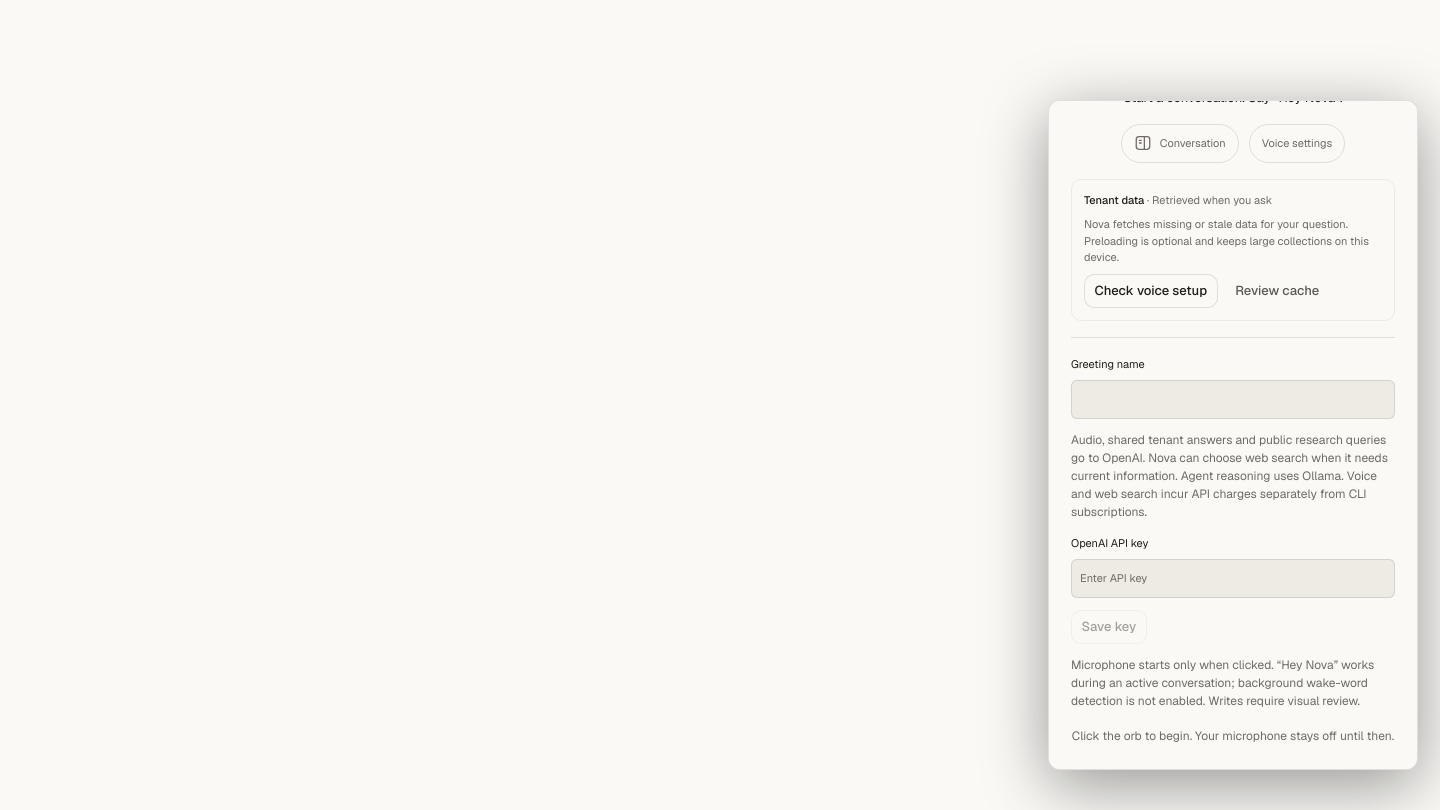
Test: does not let a delayed key-status result undo a successful key save
(page scrolled)
Type "test-only-key" into the password field labelled "OpenAI API key".
click(1233, 578); type("test-only-key")  # box top-left (1071, 558), bottom-right (1395, 598)
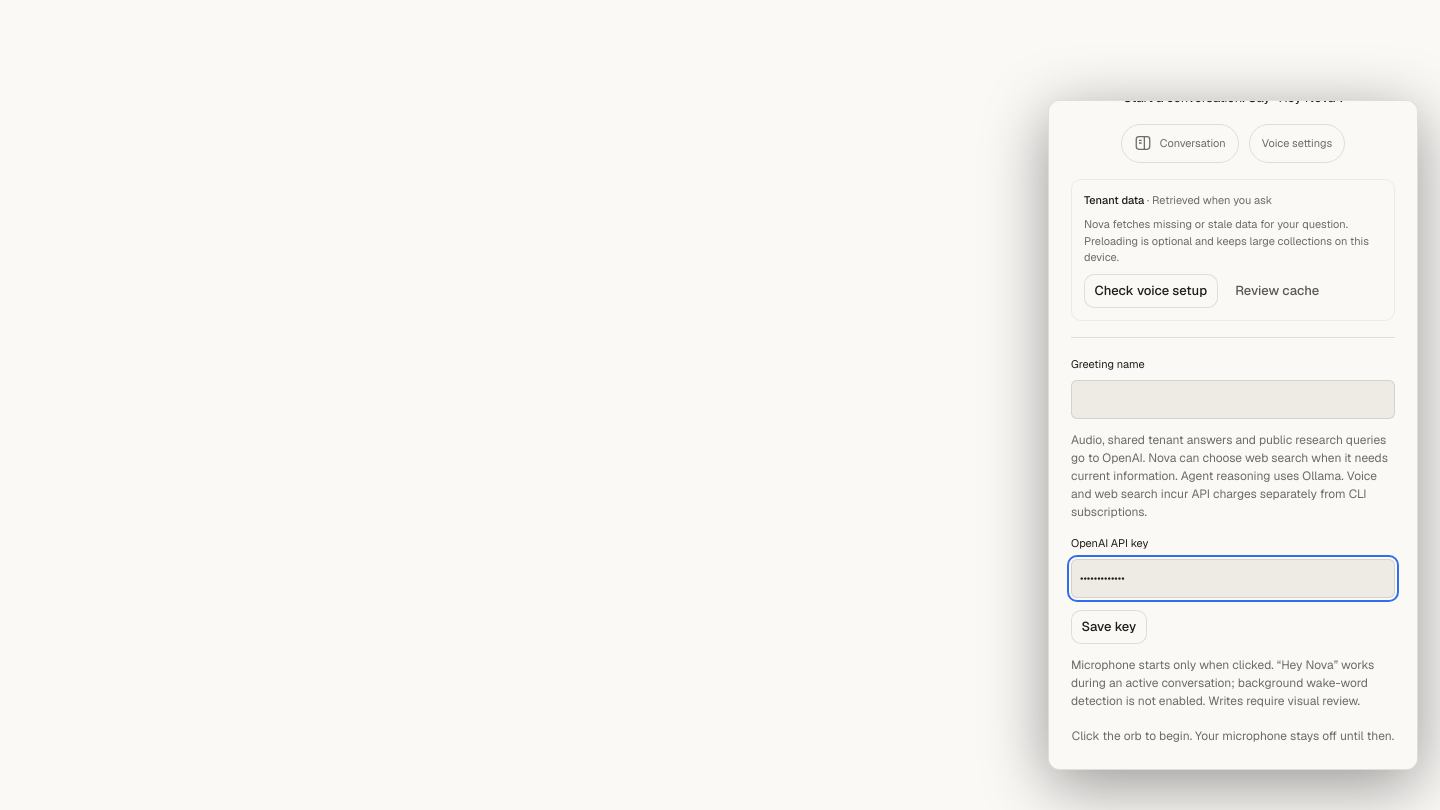
Click the button "Save key".
click(1109, 626)  # box top-left (1071, 610), bottom-right (1147, 644)
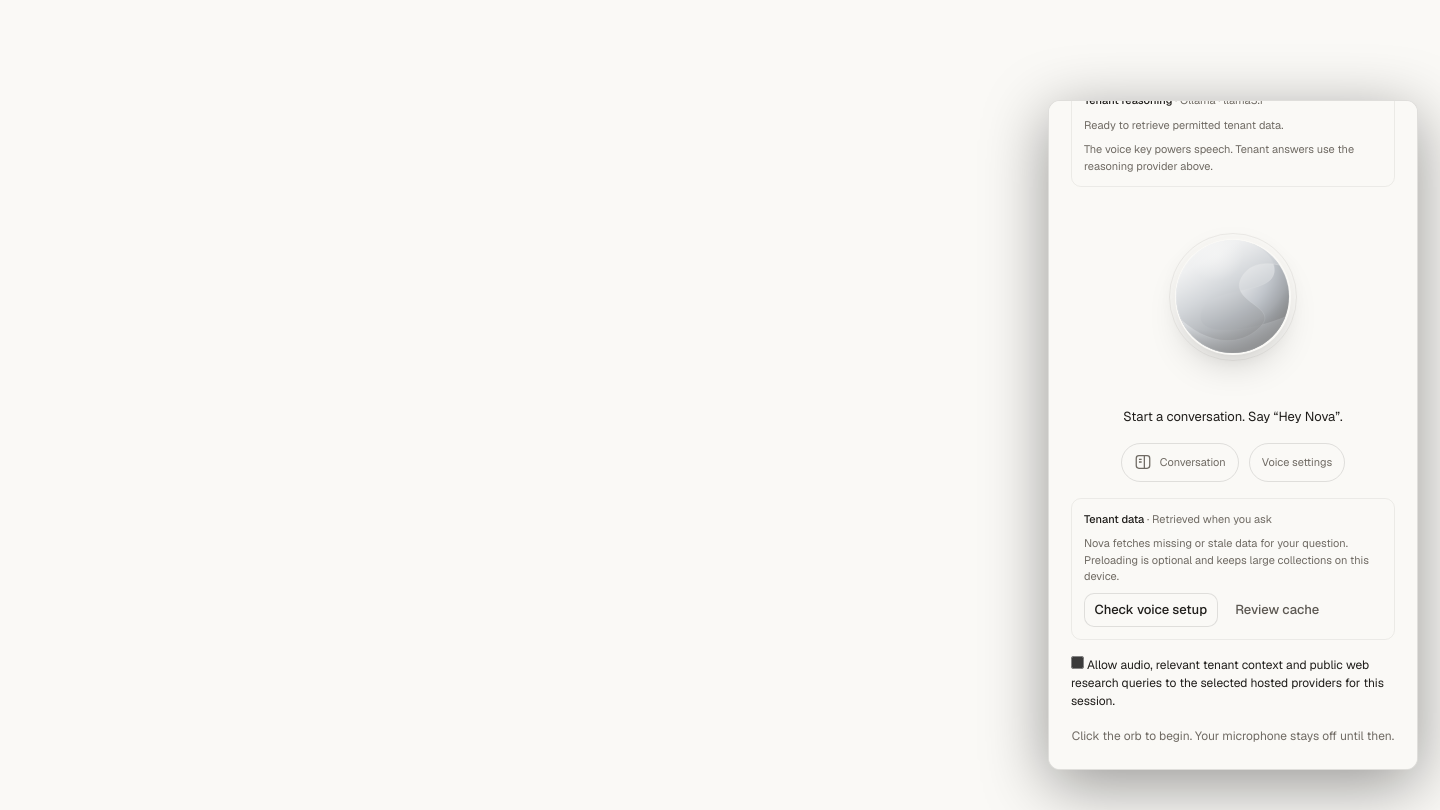
Click the button "Voice settings".
click(1297, 462)  # box top-left (1249, 442), bottom-right (1345, 482)
(page scrolled)
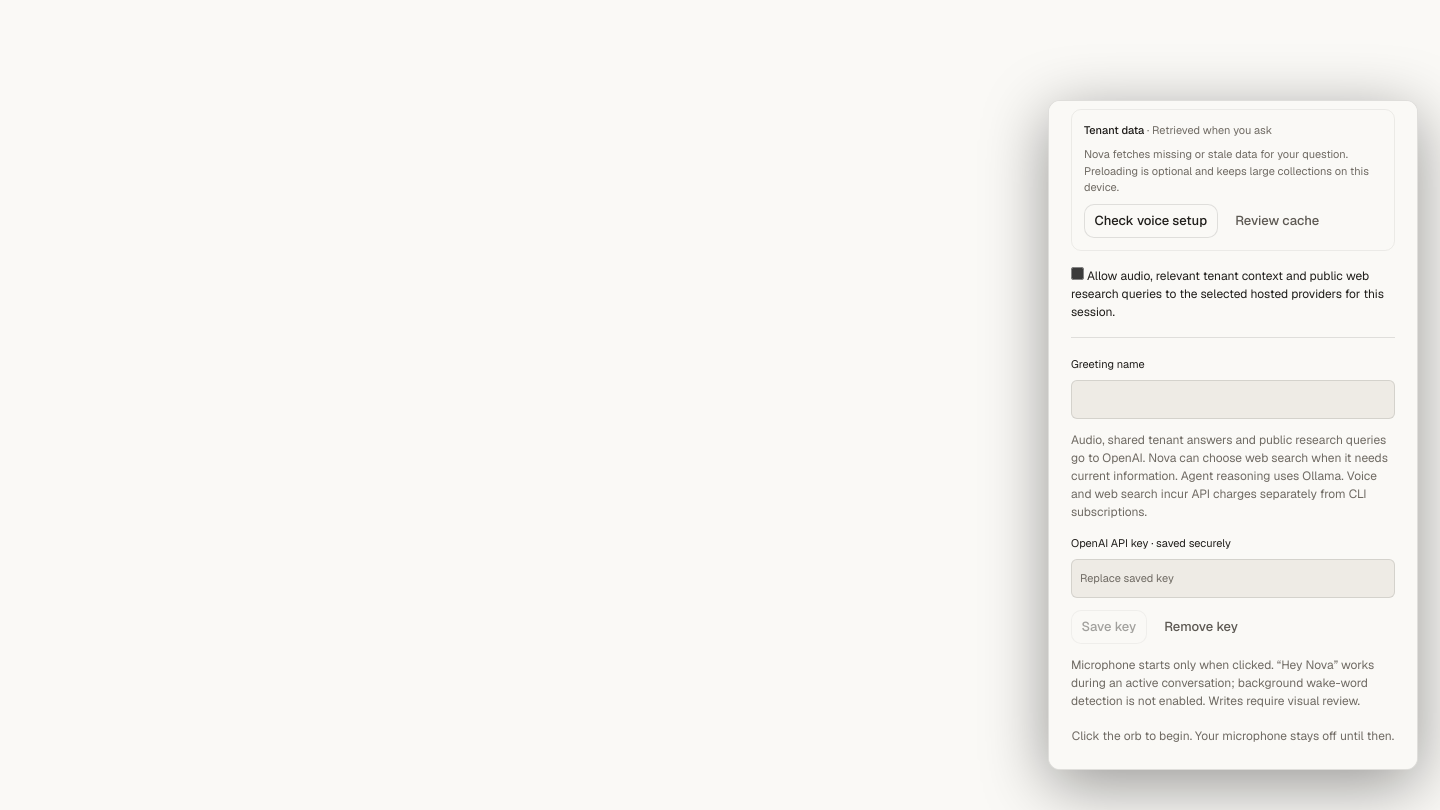
expect the password field labelled "OpenAI API key · saved securely" is empty: met, box top-left (1071, 558), bottom-right (1395, 598)
expect the button "Remove key" is shown: met, box top-left (1154, 610), bottom-right (1248, 644)
